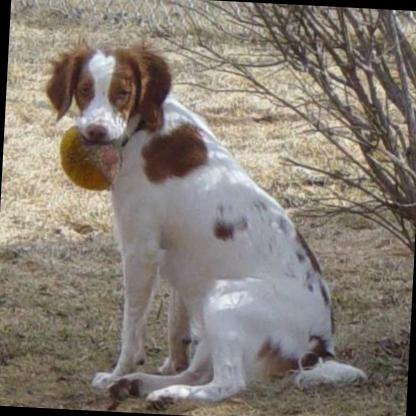Brittany_spaniel: (28, 31, 382, 414)
